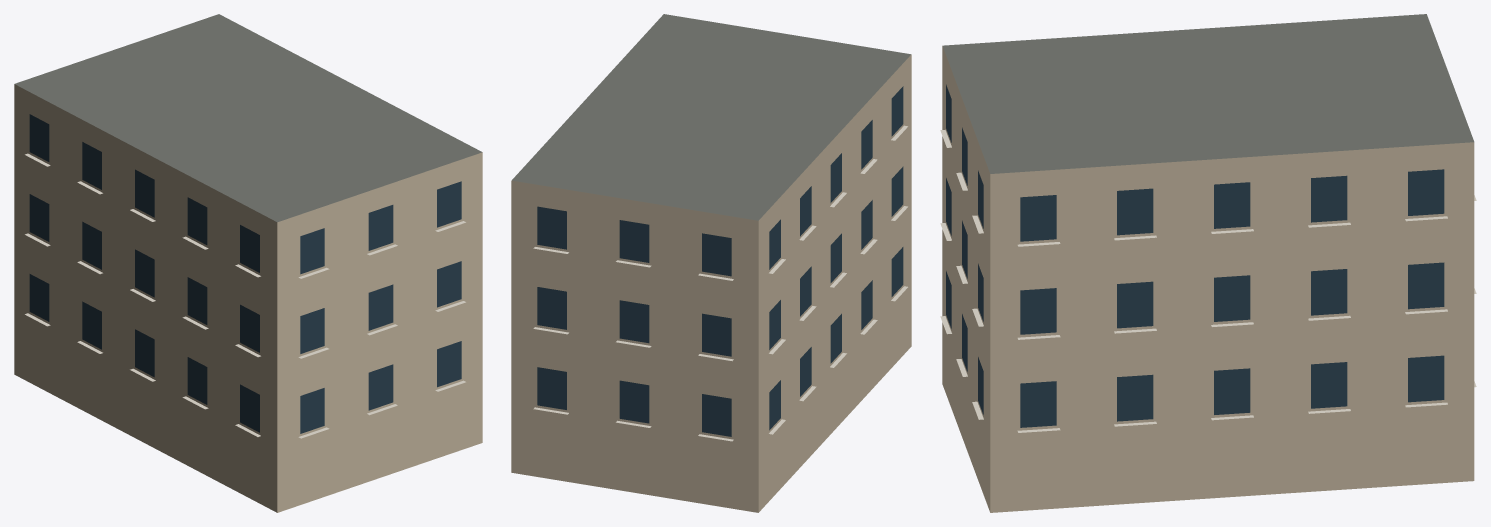
3 views of the same model, side by side, from view 1: azimuth 30°, elevation 25°; view 2: azimuth 150°, elevation 25°; view 3: azimuth 270°, elevation 25° (orthographic). The views are drawn at different scales.
Parts seen in each view (by area): view 1: Footprint 0, Inferred window bays, Window sills; view 2: Footprint 0, Inferred window bays, Window sills; view 3: Footprint 0, Inferred window bays, Window sills.
Boxes of the visible parts, bbox=[...] form: Footprint 0: bbox=[14, 14, 482, 512]; Inferred window bays: bbox=[29, 114, 461, 433]; Window sills: bbox=[25, 153, 465, 438]; Footprint 0: bbox=[511, 14, 911, 512]; Inferred window bays: bbox=[537, 86, 903, 436]; Window sills: bbox=[533, 125, 907, 441]; Footprint 0: bbox=[942, 14, 1474, 512]; Inferred window bays: bbox=[946, 84, 1444, 427]; Window sills: bbox=[940, 129, 1476, 432].
Size of the model in its own units: 12.94 by 12.59 by 18.07.
